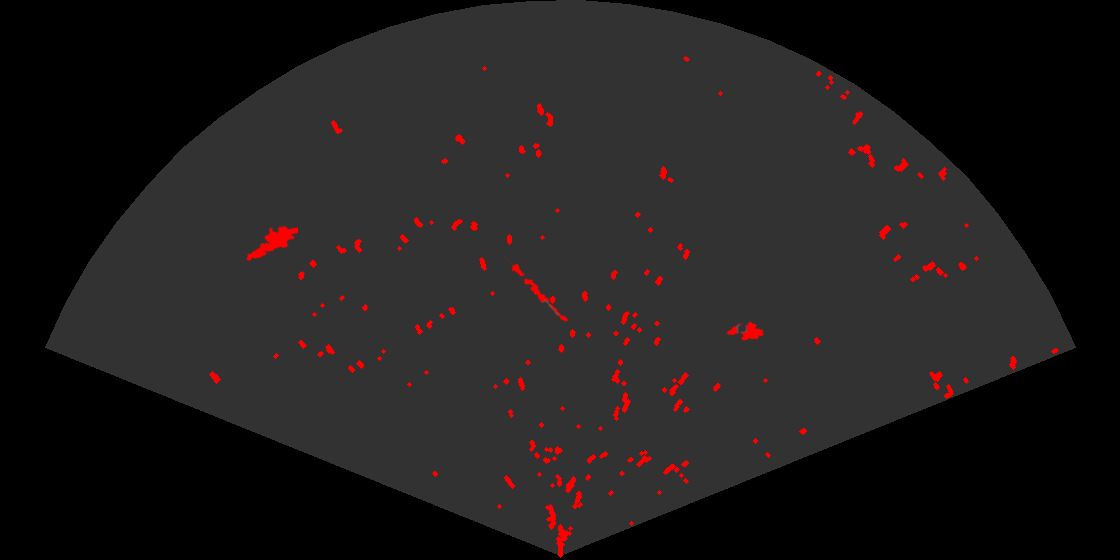AUV: (725, 320, 766, 342)
chain: (503, 257, 570, 323)
frogman: (244, 224, 298, 262)
